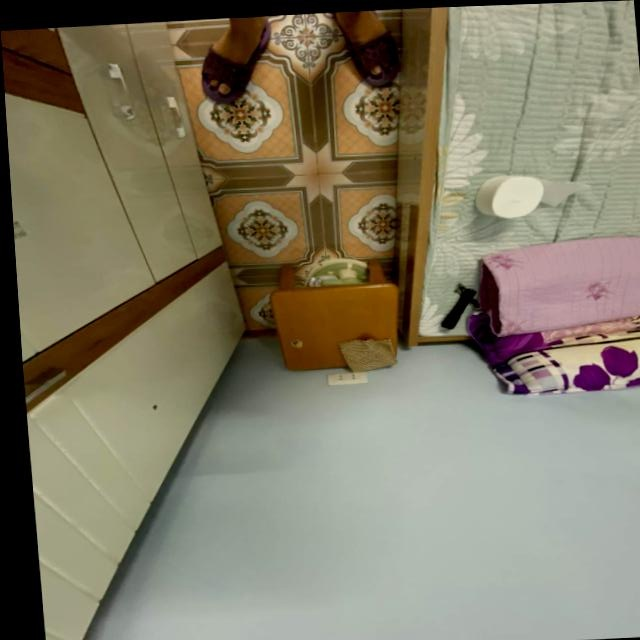outlet: (327, 370, 369, 384)
